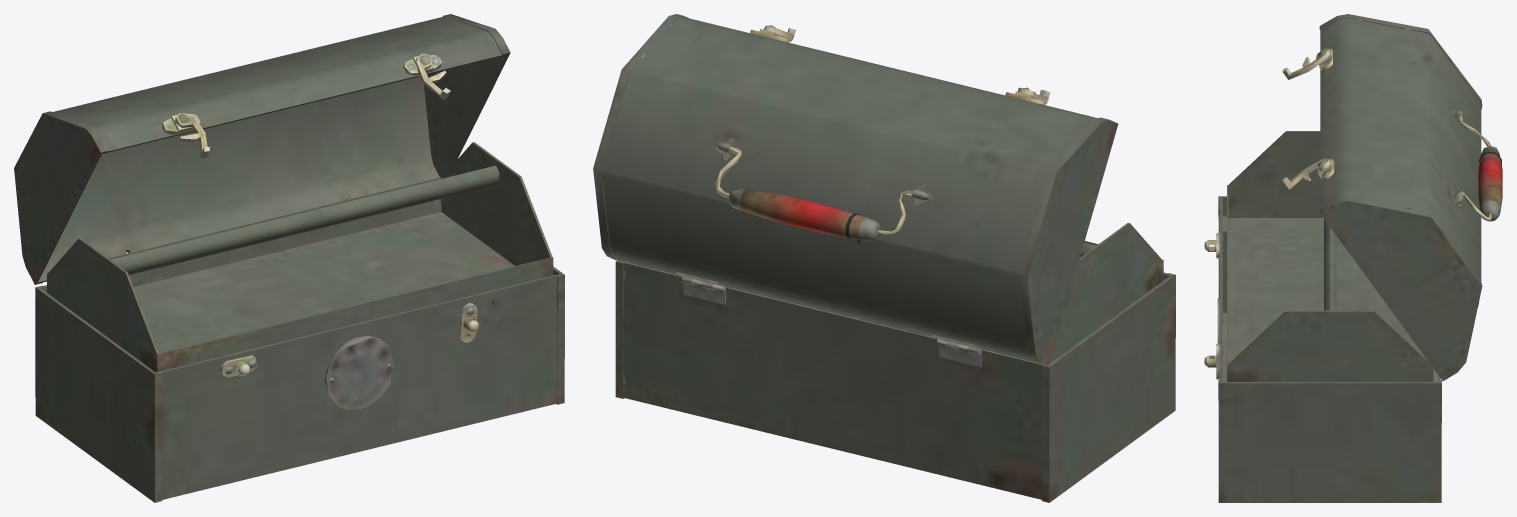
Rendered from toolbox-metal.569d0aa0.glb.
3 renders of one model, left to right at view 1: azimuth 30°, elevation 25°; view 2: azimuth 150°, elevation 25°; view 3: azimuth 270°, elevation 25°, orthographic. The views are drawn at different scales.
Visible parts, largest first — view 1: model; view 2: model; view 3: model.
Boxes of the visible parts, box(x1,y1,x2,y2) form: model: box(14, 14, 564, 502); model: box(593, 14, 1175, 502); model: box(1204, 14, 1502, 502).
Size of the model in its own units: 0.4 by 0.3047 by 0.2698.
Materials: 1 (1 with a texture image).
